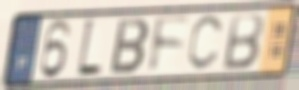6: (38, 18, 73, 81)
B: (219, 11, 266, 72), (108, 17, 152, 76)
C: (185, 13, 226, 73)
F: (147, 14, 192, 77)
L: (74, 17, 104, 80)
